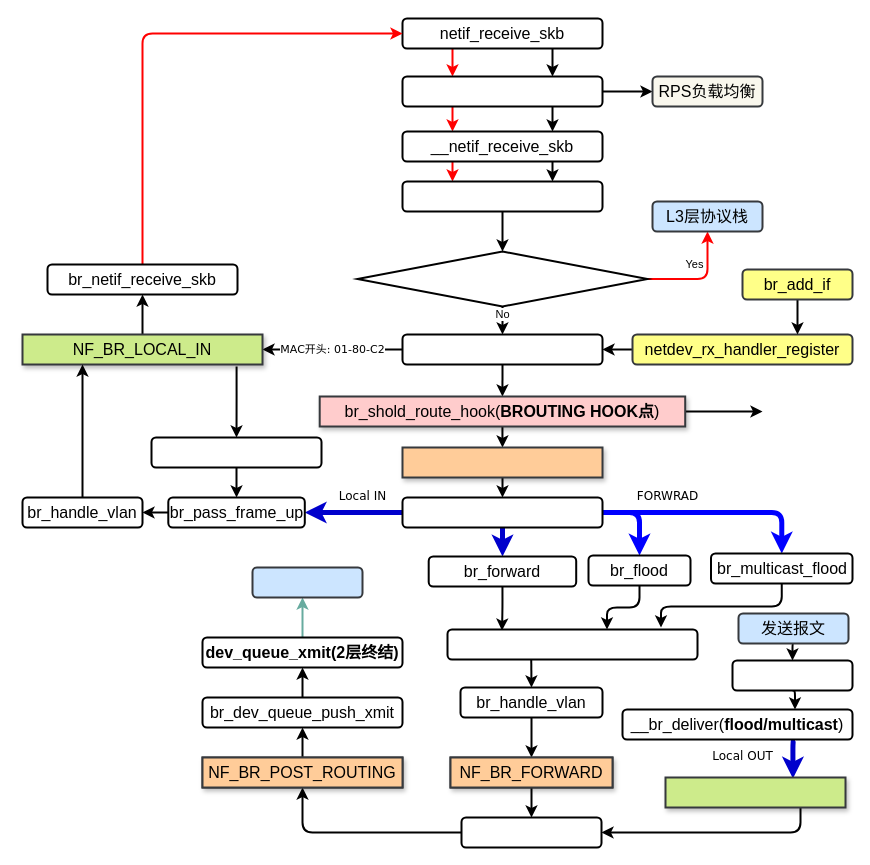
Image size: 870x865. Some labels were removed from this diagram. The centre of each missing label's shape, as x and y in pixels:
"__br_forward" goes at pixel 572 644.
"__netif_receive_skb_core" goes at pixel 502 196.
"br_dev_xmit" goes at pixel 792 675.
"br_forward_finish" goes at pixel 531 832.
"br_handle_frame" goes at pixel 502 349.
"br_handle_frame_finish" goes at pixel 502 512.
"br_handle_local_finish" goes at pixel 236 452.
"L1链路层" goes at pixel 307 582.
"netif_receive_skb_internal" goes at pixel 502 91.
"NF_BR_LOCAL_OUT" goes at pixel 756 793.
"NF_BR_PRE_ROUTING" goes at pixel 503 463.
"skb->dev->rx_handler == NULL" goes at pixel 502 278.
